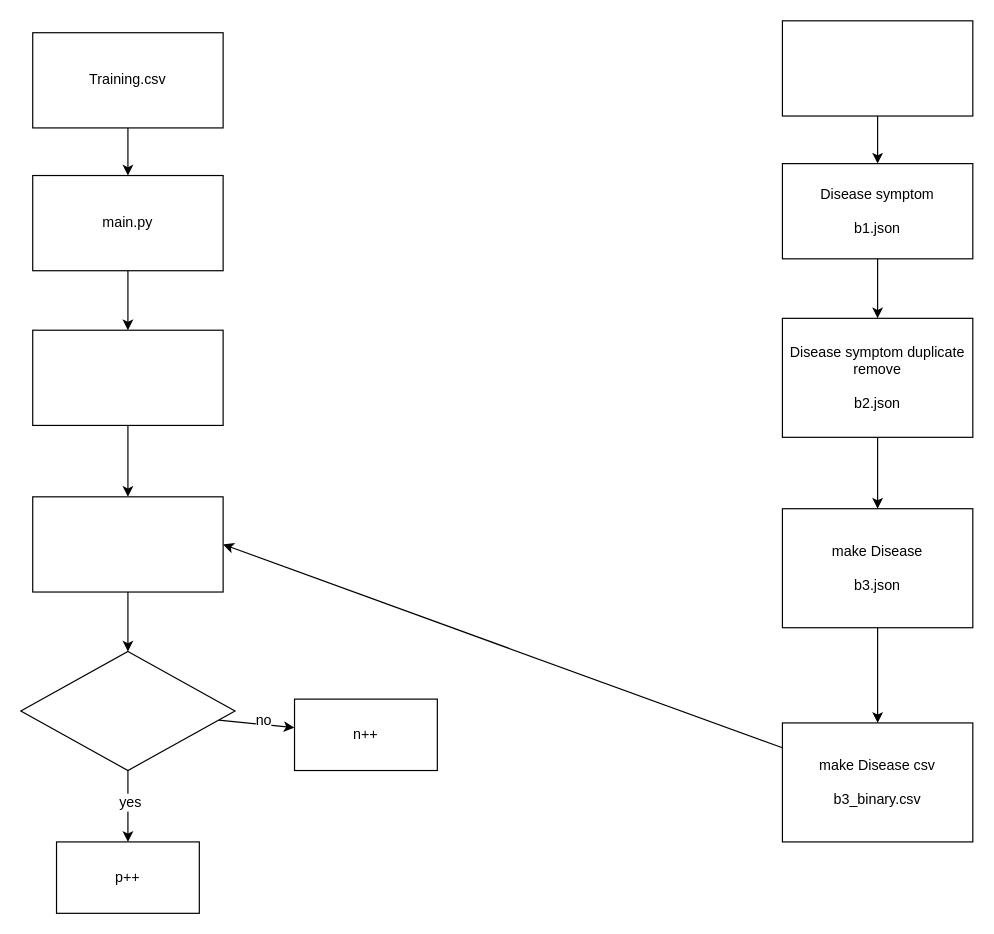
Image size: 994x934. Some labels were removed from this diagram. Here are the shapes that lost their labels. From the top down, the centre of each, then its label:
At (x=877, y=68): "Random DIsease b_pair.json".
At (x=127, y=377): "decision tree".
At (x=127, y=544): "test".
At (x=127, y=710): "accuracy b_pair<=output".
